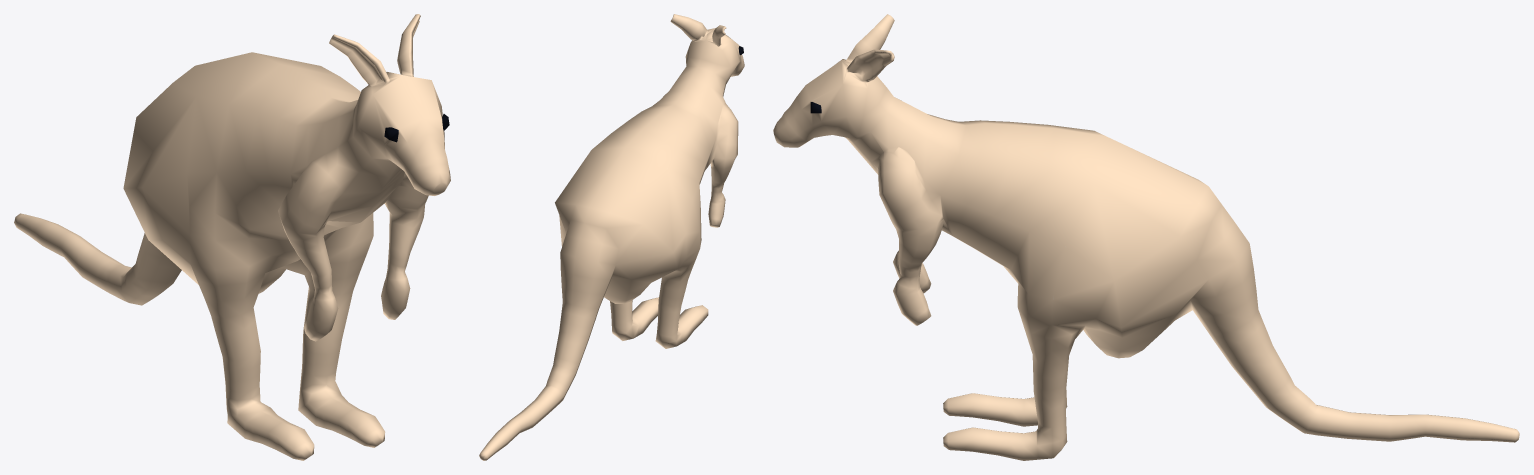
File: kangaroo.fbx
3 renders of one model, left to right at view 1: azimuth 30°, elevation 25°; view 2: azimuth 150°, elevation 25°; view 3: azimuth 270°, elevation 25°, orthographic. The views are drawn at different scales.
Visible parts, largest first — view 1: unamed; view 2: unamed; view 3: unamed.
Boxes of the visible parts, x1=… form: unamed: x1=14, y1=14, x2=450, y2=460; unamed: x1=479, y1=14, x2=744, y2=460; unamed: x1=773, y1=14, x2=1519, y2=460.
Size of the model in its own units: 0.458 by 0.9768 by 1.59.
Materials: 1 (1 with a texture image).
